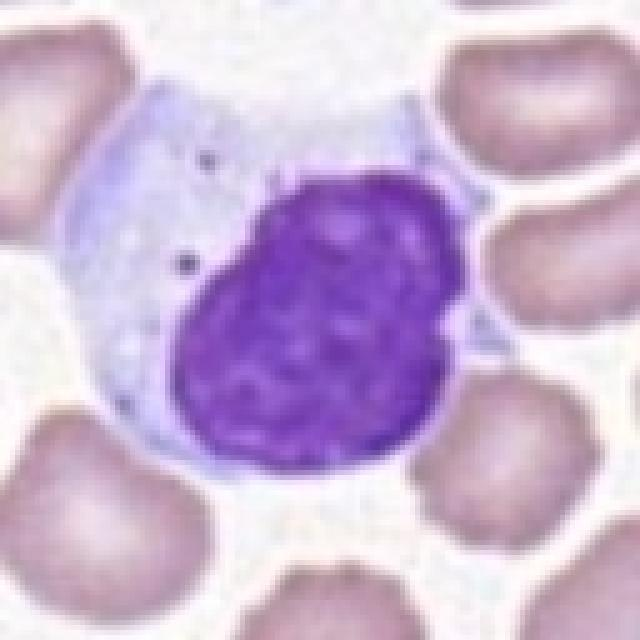lympho: (47, 65, 513, 485)
